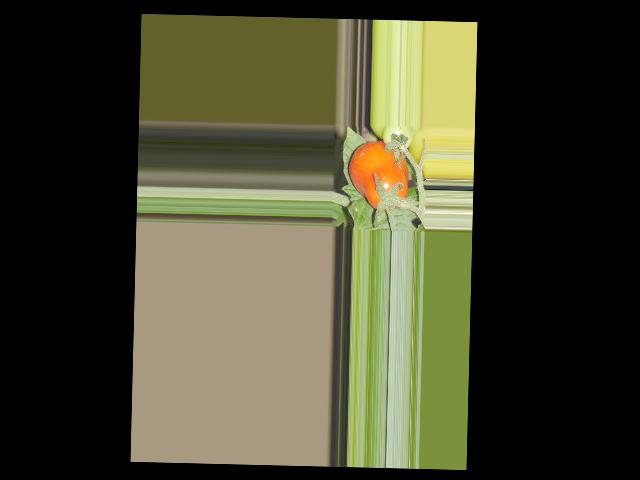tomato: (348, 140, 409, 211)
